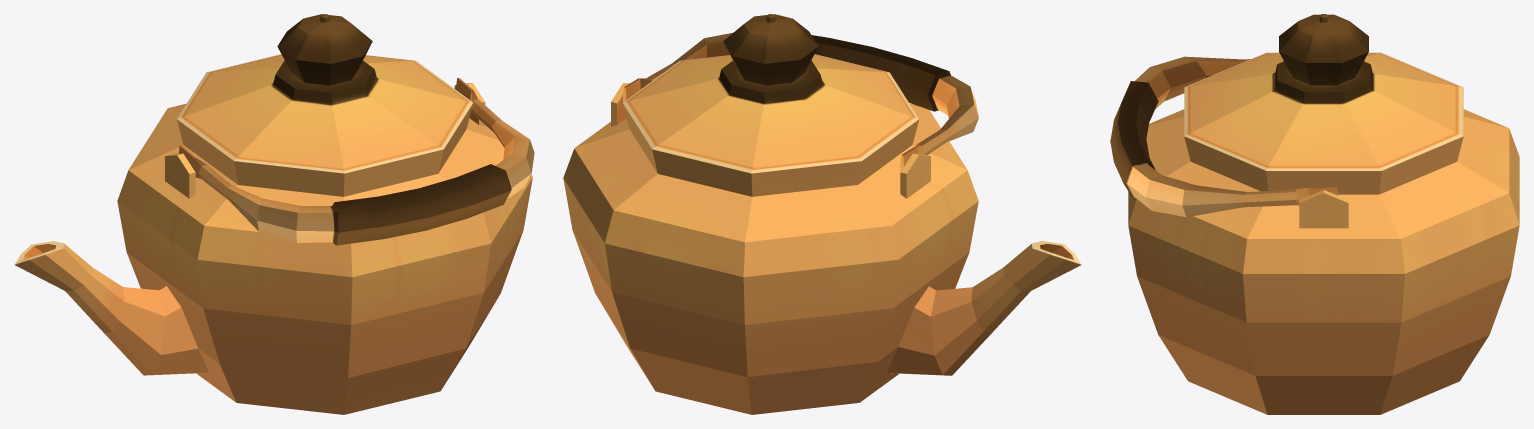
The model's file is Background_Stage4Decoration_boiler_B.fbx.
The picture shows the model from 3 angles, left to right: view 1: azimuth 30°, elevation 25°; view 2: azimuth 150°, elevation 25°; view 3: azimuth 270°, elevation 25°; orthographic projection.
Parts seen in each view (by area): view 1: Background_Stage4Decoration_boiler_B; view 2: Background_Stage4Decoration_boiler_B; view 3: Background_Stage4Decoration_boiler_B.
Part boxes in pixels (bbox=[...]): Background_Stage4Decoration_boiler_B: bbox=[14, 14, 534, 414]; Background_Stage4Decoration_boiler_B: bbox=[563, 14, 1081, 414]; Background_Stage4Decoration_boiler_B: bbox=[1110, 14, 1519, 414].
Size of the model in its own units: 210 by 151 by 154.
